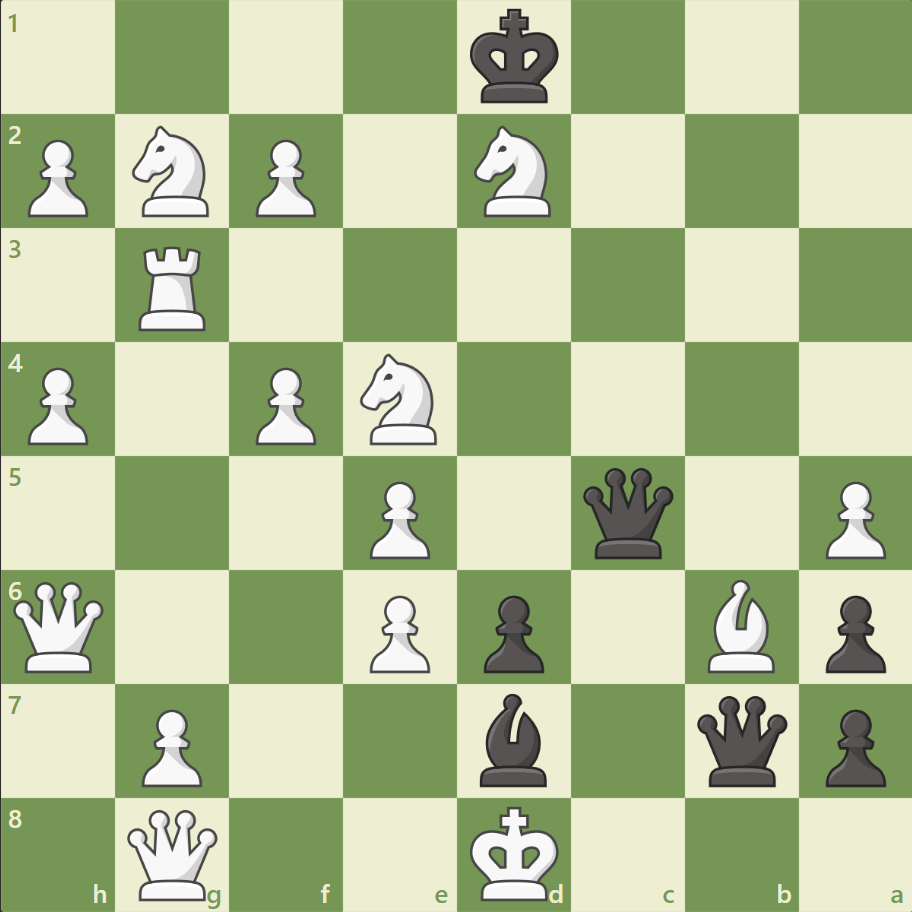B: (698, 574, 782, 676)
K: (465, 798, 565, 906)
N: (351, 348, 449, 450), (124, 121, 222, 223), (465, 121, 562, 223)
P: (133, 700, 208, 791), (247, 359, 322, 450), (20, 359, 95, 450), (247, 132, 322, 223), (20, 132, 95, 223), (361, 586, 435, 677), (815, 473, 889, 564), (361, 473, 435, 564)
Q: (10, 576, 109, 676), (124, 804, 223, 903)
R: (133, 239, 215, 336)
b: (471, 687, 555, 790)
k: (465, 4, 565, 112)
p: (474, 586, 549, 677), (815, 700, 889, 791), (815, 586, 889, 677)
q: (691, 690, 790, 789), (578, 463, 677, 562)
